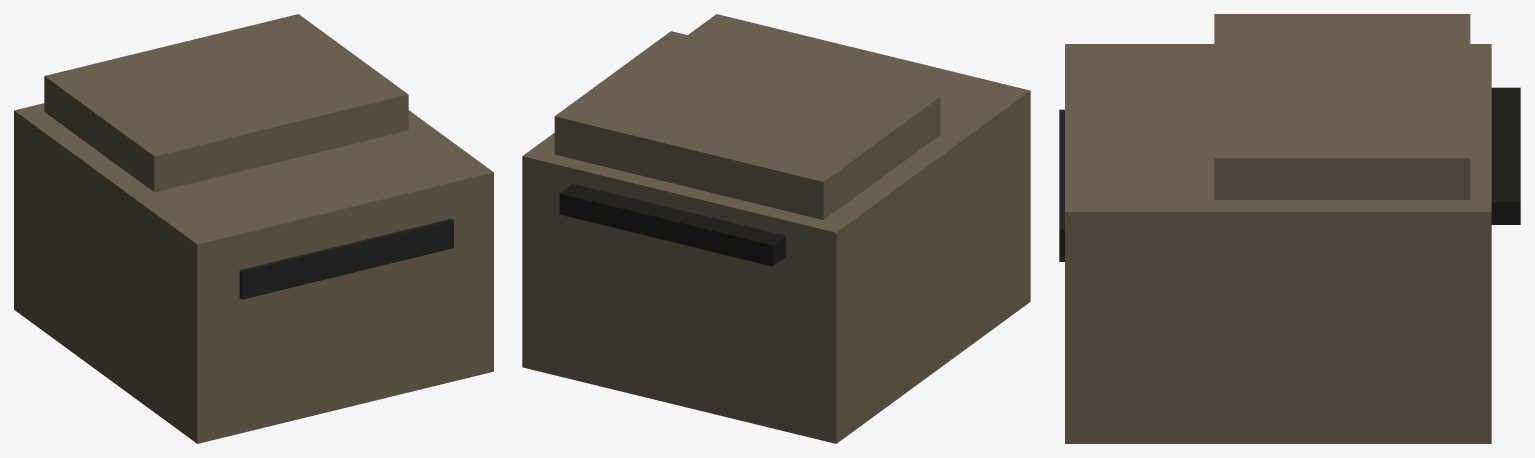
File: impresora_termica_98.obj
The picture shows the model from 3 angles, left to right: view 1: azimuth 30°, elevation 25°; view 2: azimuth 150°, elevation 25°; view 3: azimuth 270°, elevation 25°; orthographic projection. The views are drawn at different scales.
Visible parts, largest first — view 1: impresora_termica_98; view 2: impresora_termica_98; view 3: impresora_termica_98.
Boxes of the visible parts, x1=… form: impresora_termica_98: x1=14, y1=14, x2=493, y2=443; impresora_termica_98: x1=522, y1=14, x2=1030, y2=443; impresora_termica_98: x1=1059, y1=14, x2=1520, y2=443.
Size of the model in its own units: 0.28 by 0.2125 by 0.3245.
